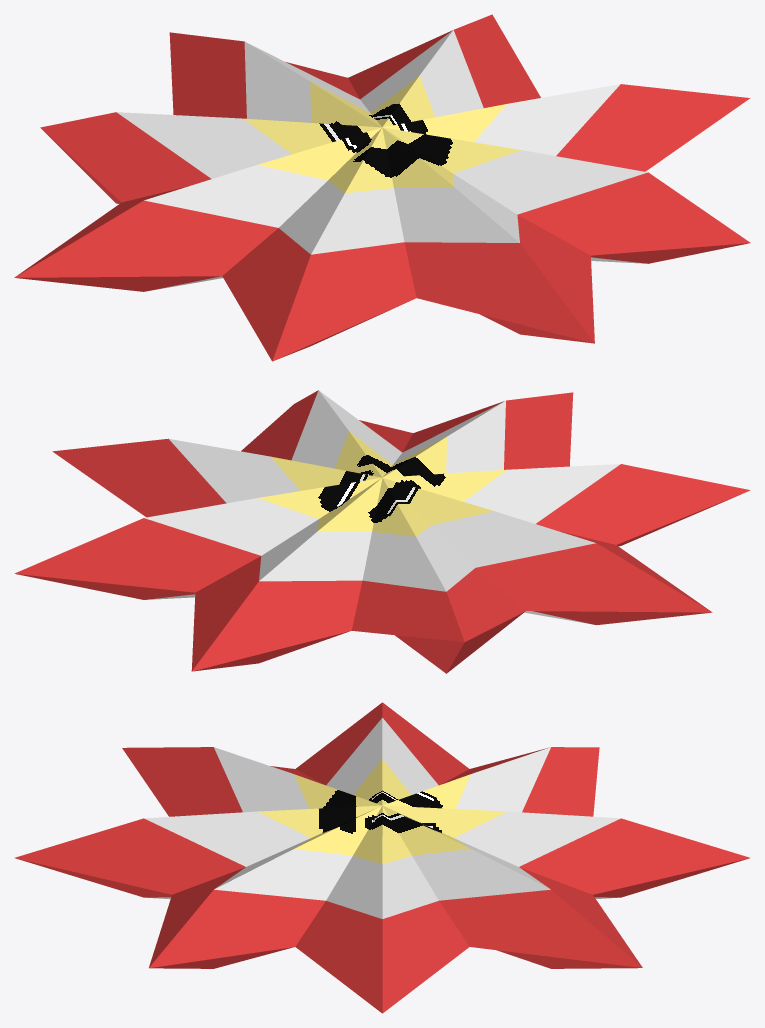
File: damage_pickup.glb
The picture shows the model from 3 angles, top to bottom: view 1: azimuth 30°, elevation 25°; view 2: azimuth 150°, elevation 25°; view 3: azimuth 270°, elevation 25°; orthographic projection. The views are drawn at different scales.
Visible parts, largest first — view 1: damage_pickup; view 2: damage_pickup; view 3: damage_pickup.
Boxes of the visible parts, <box> form: damage_pickup: <box>14,14,750,361</box>; damage_pickup: <box>14,390,750,673</box>; damage_pickup: <box>15,702,749,1013</box>.
Bounding box in the file's own units: 1 × 0.1571 × 1.
3 materials, 1 textured.
